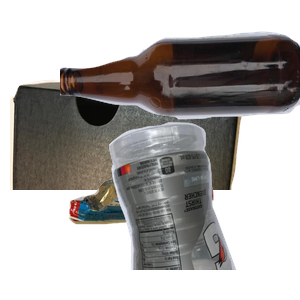cardboard: (10, 77, 245, 257)
glass: (60, 29, 300, 141)
plastic: (106, 120, 300, 300)
trash: (66, 173, 272, 300)
